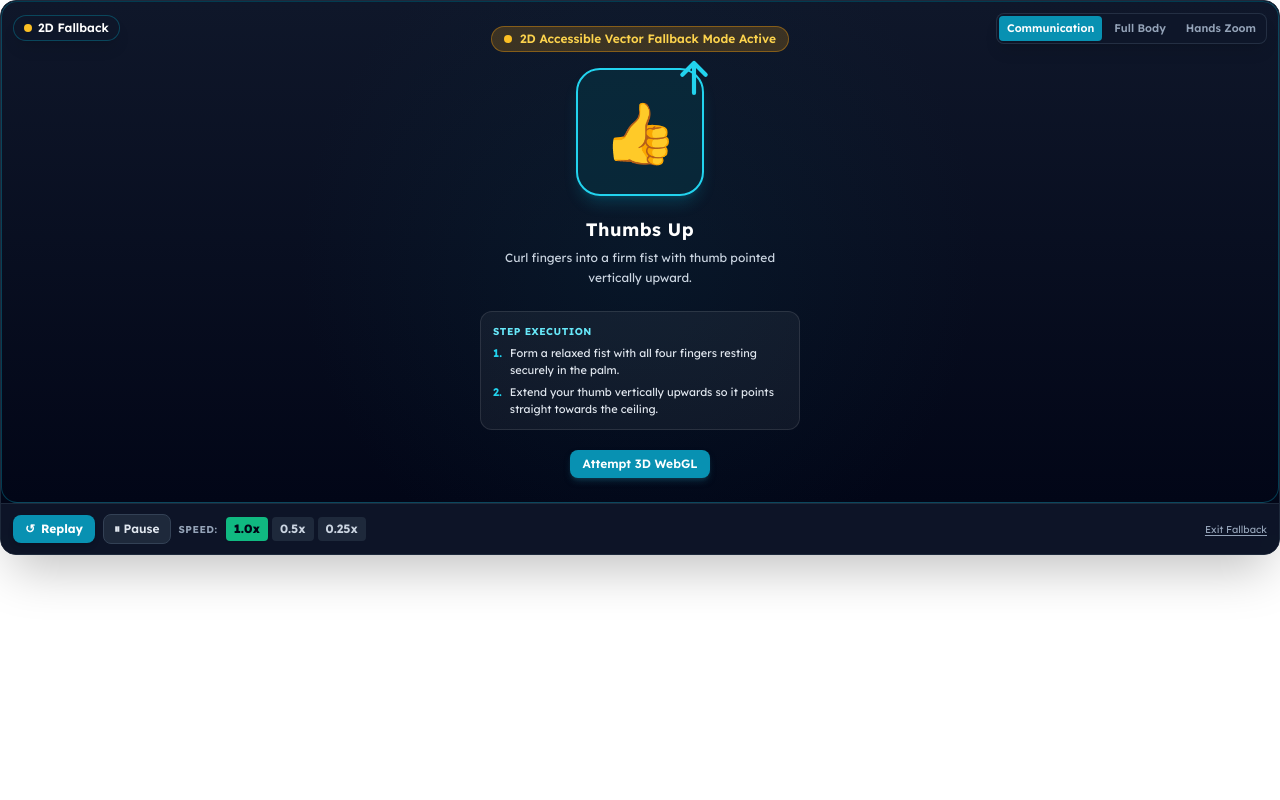
Test: SignAvatar Component › toggles pause/resume state to freeze frames for inspection
Click the button with test id "sign-avatar-pause-btn". click: (137, 529)
box: [103,514,170,544]
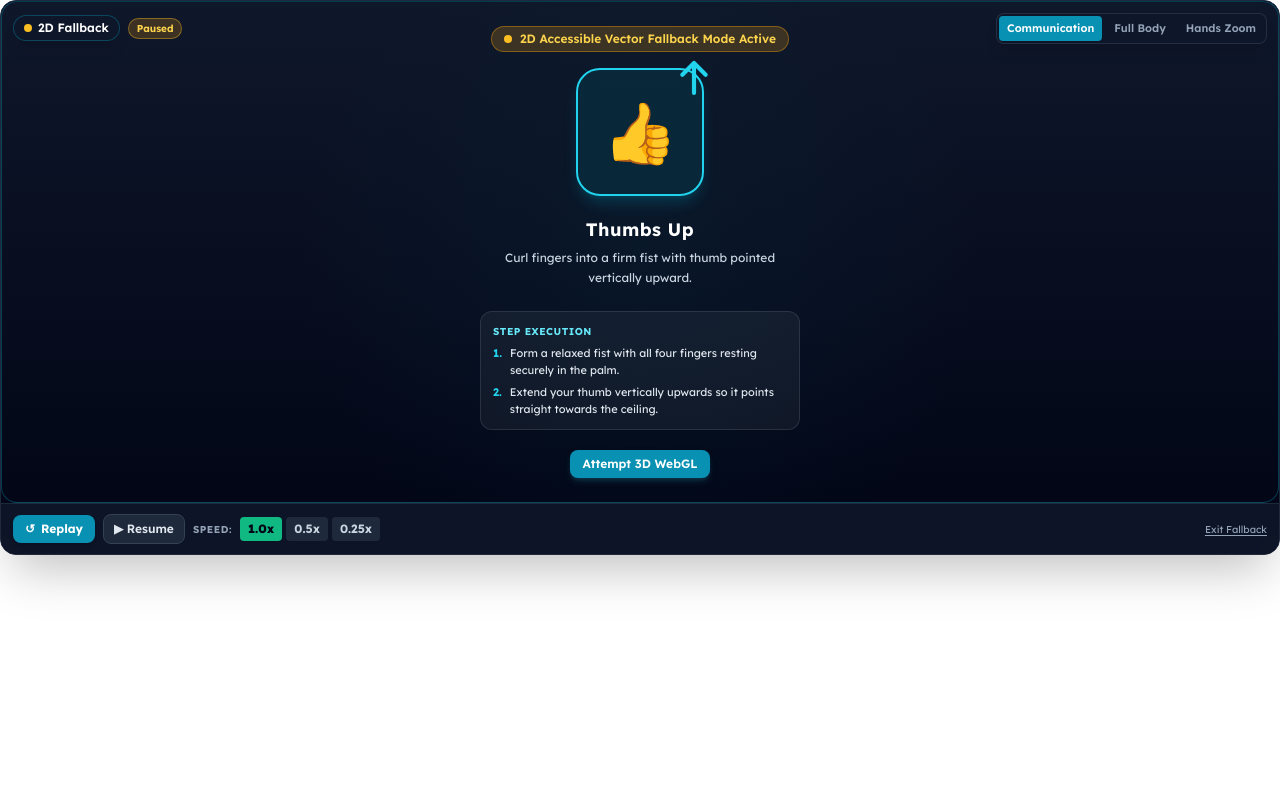
Result: the button with test id "sign-avatar-pause-btn" reads "▶ Resume"
Result: the text "Paused" is shown at [128,18,182,39]
Click the button with test id "sign-avatar-pause-btn". click: (144, 529)
box: [103,514,185,544]
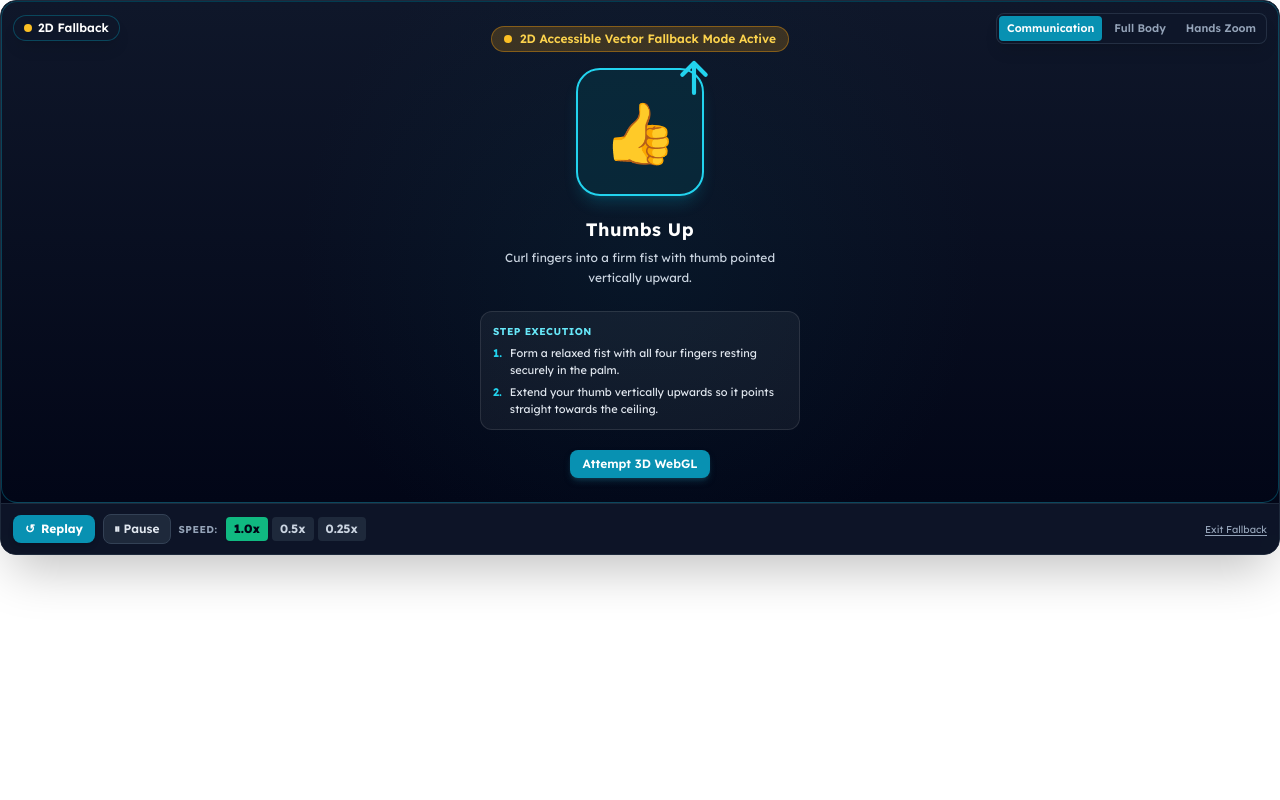
Result: the button with test id "sign-avatar-pause-btn" reads "⏸ Pause" at [103,514,170,544]
